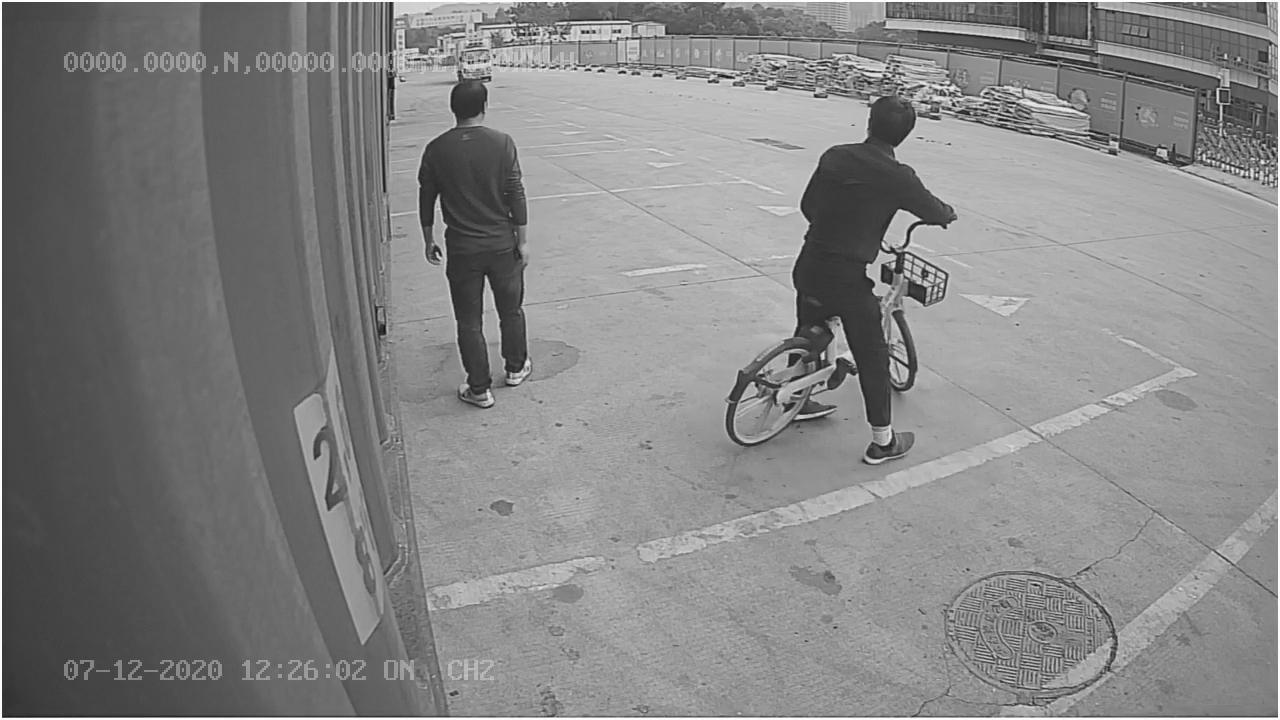person: (407, 75, 536, 412)
